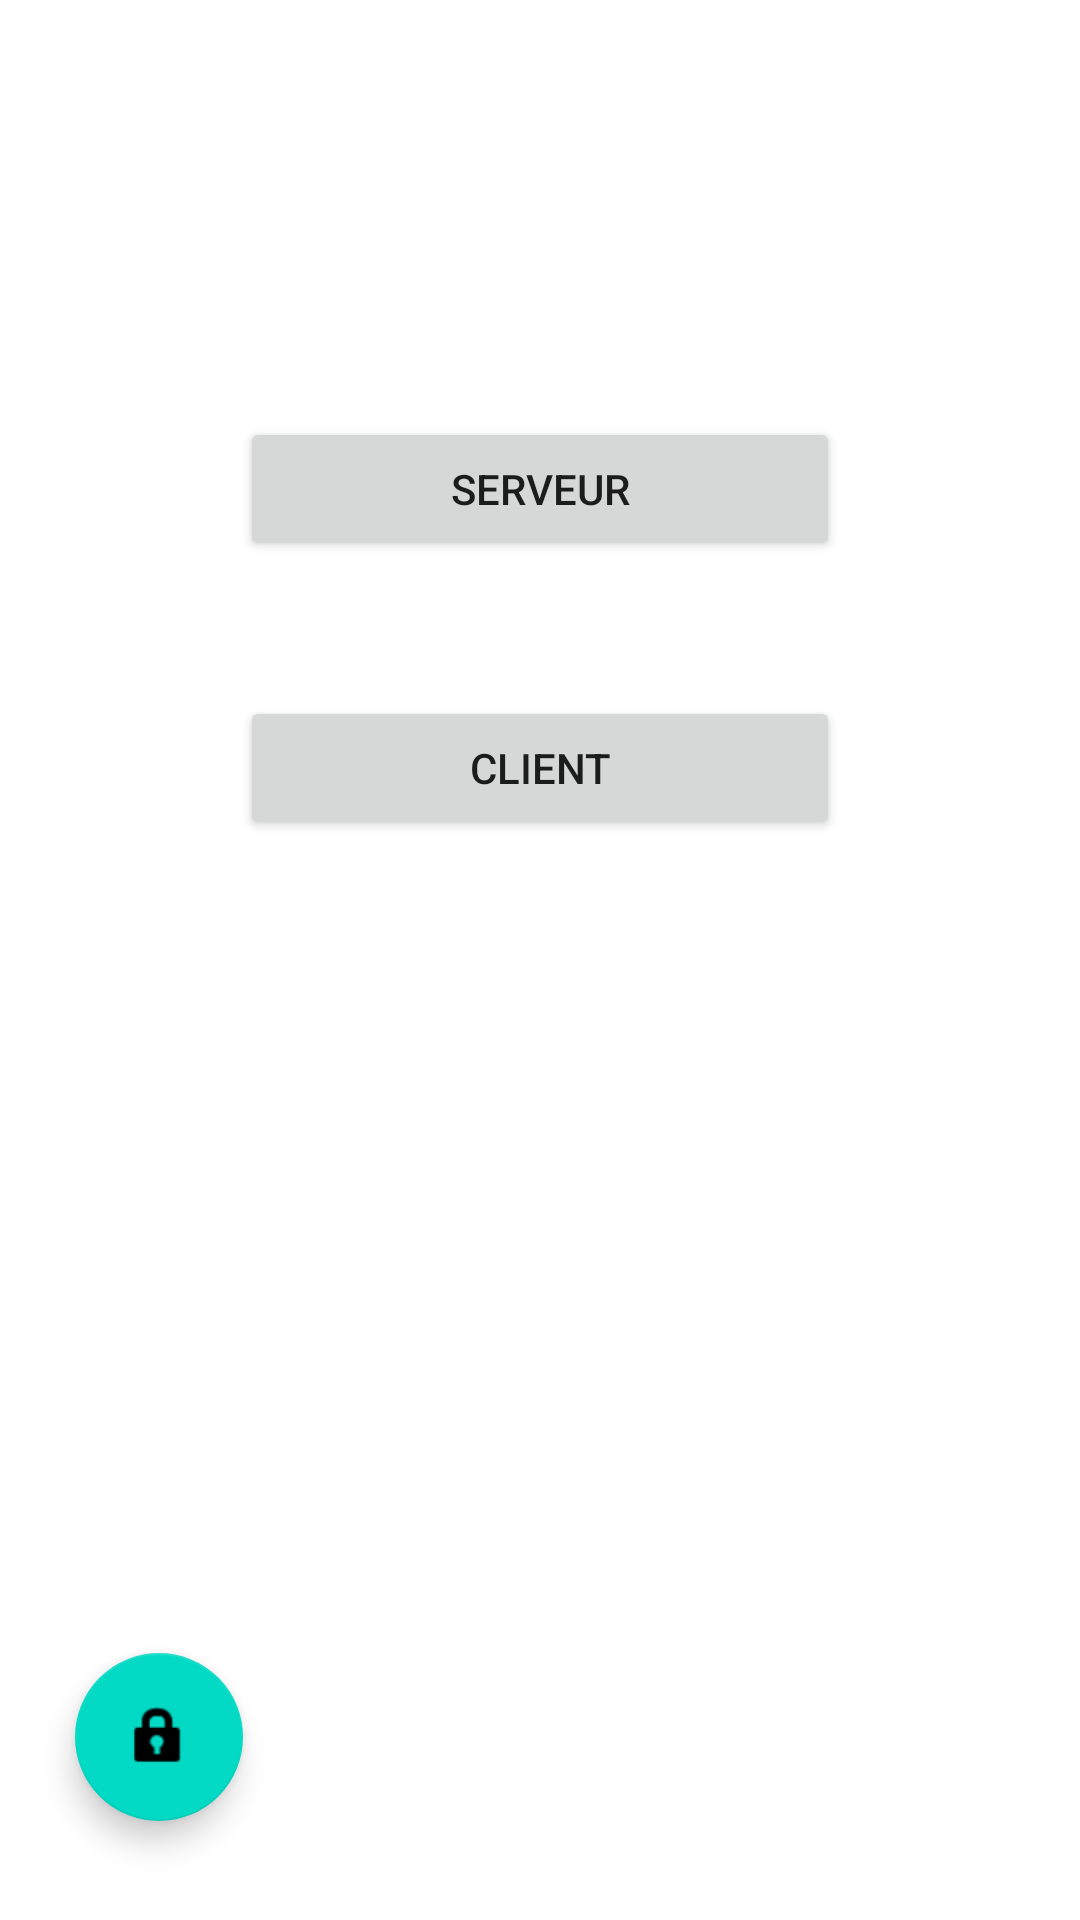

Icons on this 1080x1920 Android screen, each with its box as [x1, y1, x2, y2]:
lock idle: [75, 1653, 243, 1821]
